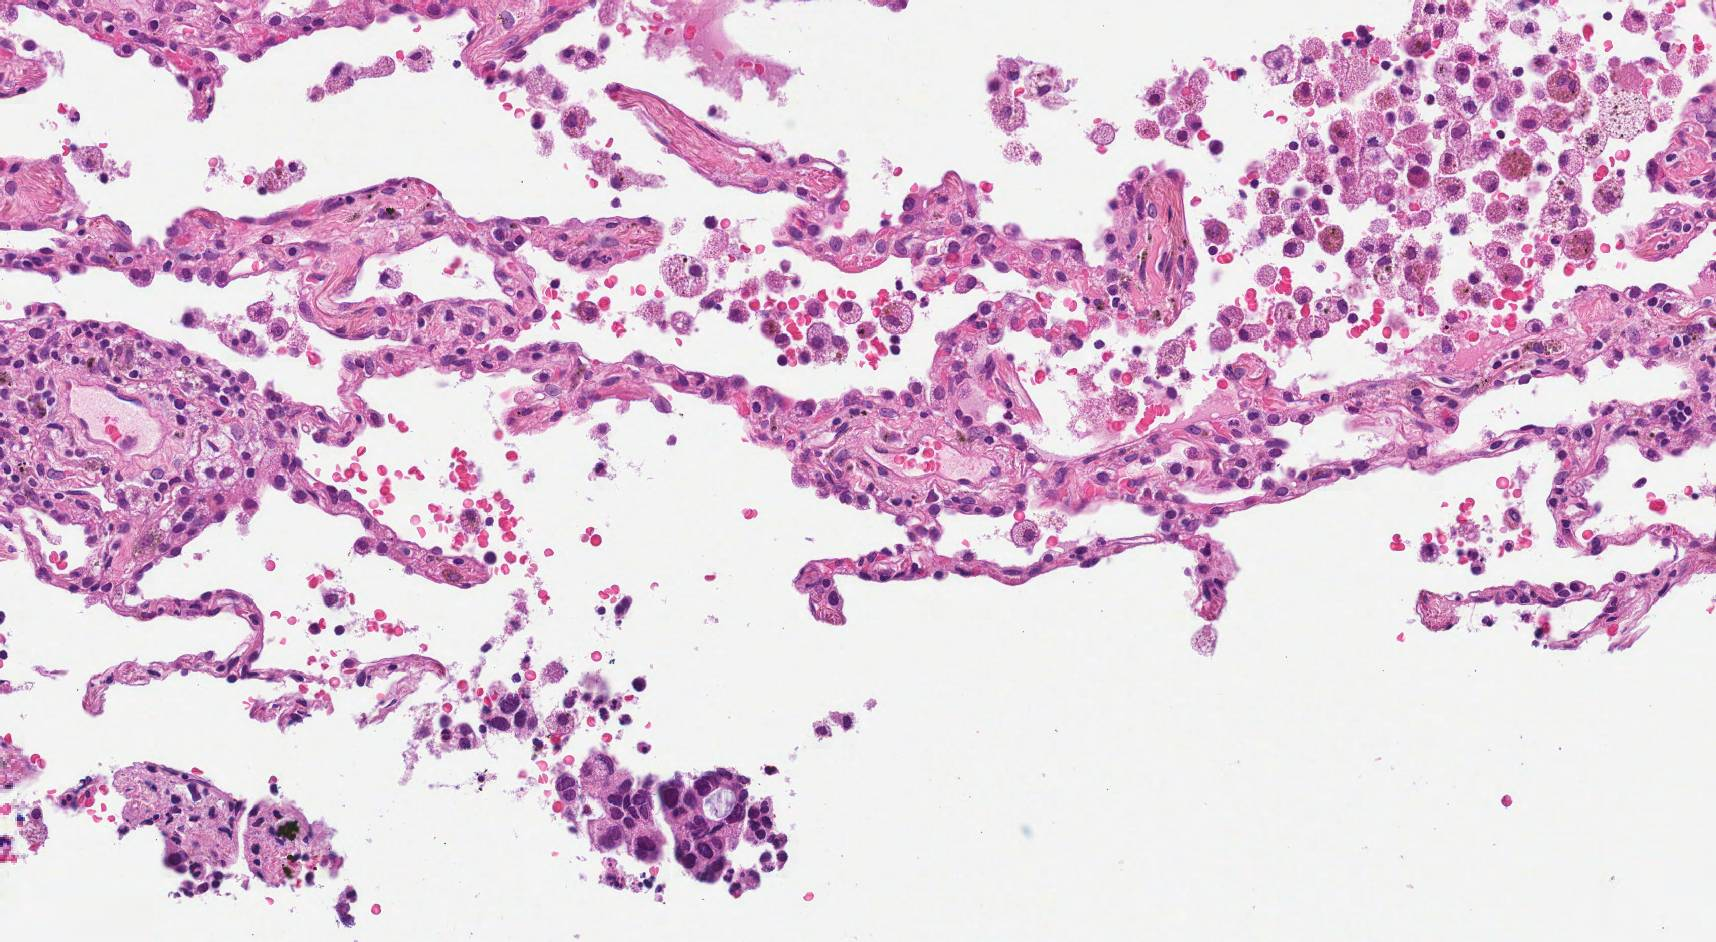stas: (558, 754, 791, 900), (438, 683, 541, 754)
